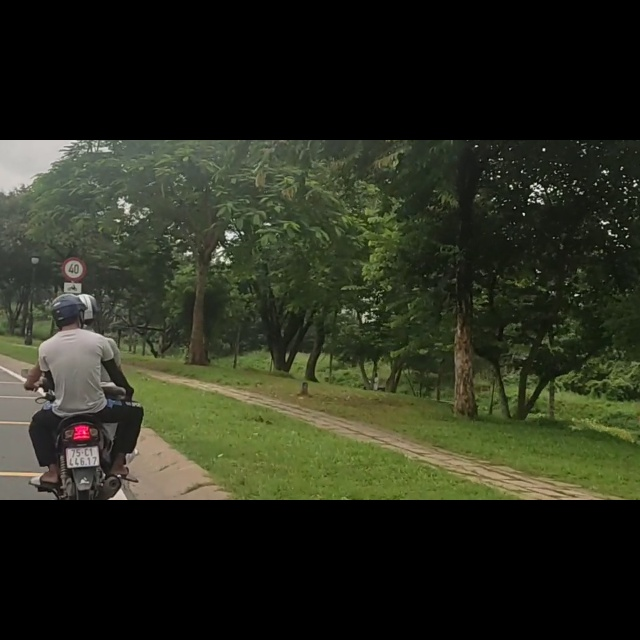Tốc độ tối đa cho phép 40km/h: (60, 257, 87, 281)
